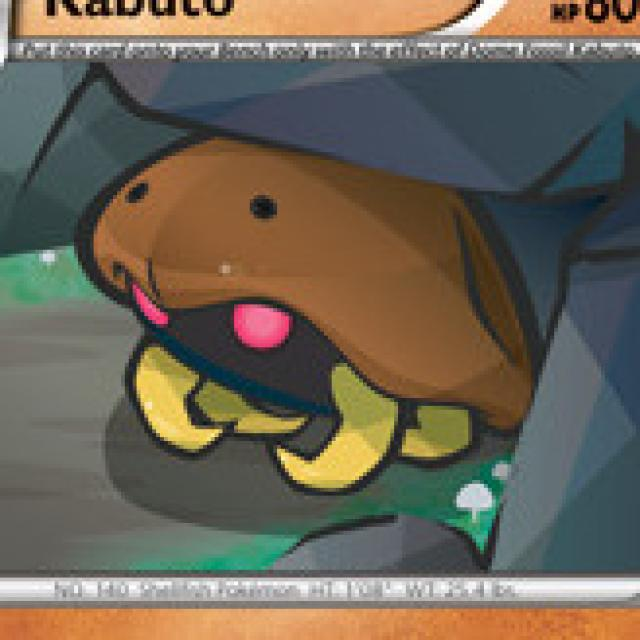Kabuto: (82, 119, 552, 485)
